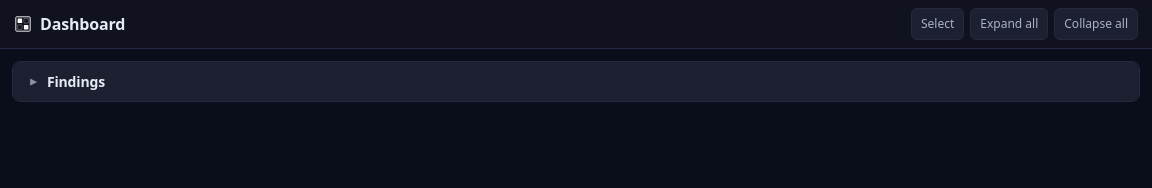
Test: DashboardSurface — states › defaults dashboard sections collapsed and toggles expand/collapse all
Check: the text "Findings" is shown, box 47,72 -> 105,91
Check: the text "Nested summary" is not shown
What coordinates should you click on to do the following:
click the button with aria-label "expand all dashboard sections"
I would click on:
 (1009, 24)
Its box is 970,8 -> 1048,40.
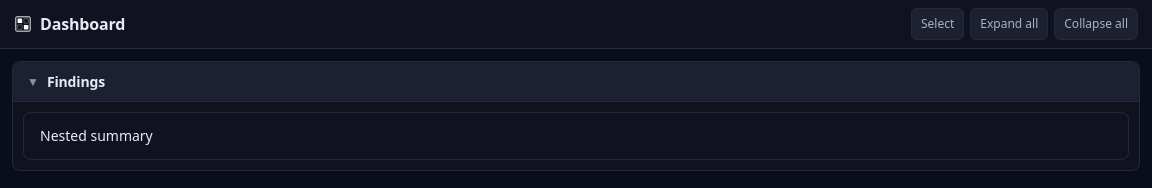
Check: the text "Nested summary" is shown, box 40,126 -> 153,145
What coordinates should you click on to do the following:
click the button with aria-label "collapse all dashboard sections"
I would click on:
 (1096, 24)
Its box is 1054,8 -> 1138,40.
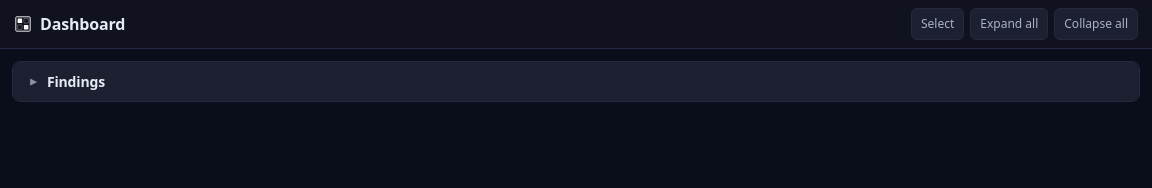
Check: the text "Nested summary" is gone
